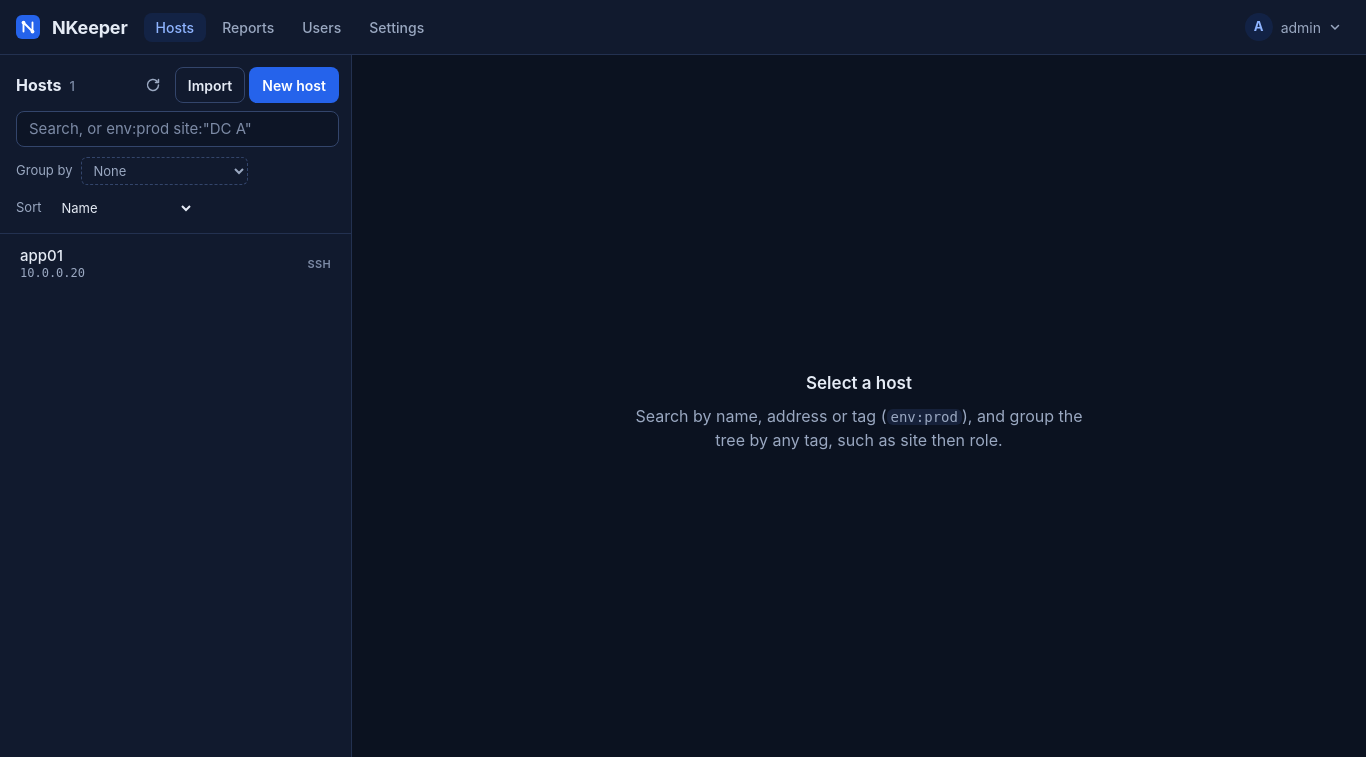
storage (iSCSI, multipath, DRBD) › logs out of a target only after confirming, and shows why the host refused
Right-click the button "app01 10.0.0.20 SSH": (41, 256) [8, 242, 343, 286]
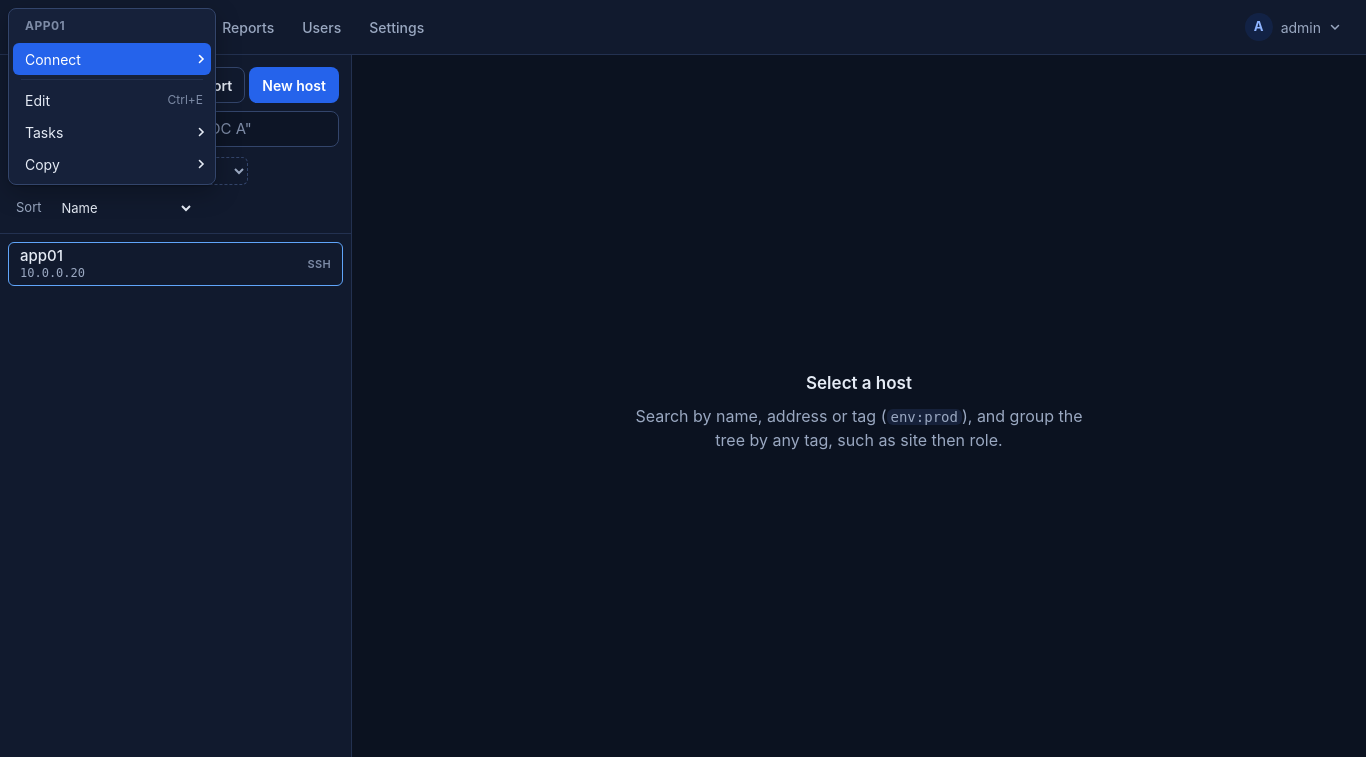
Hover over the menu item "Connect": (112, 59) [13, 43, 211, 75]
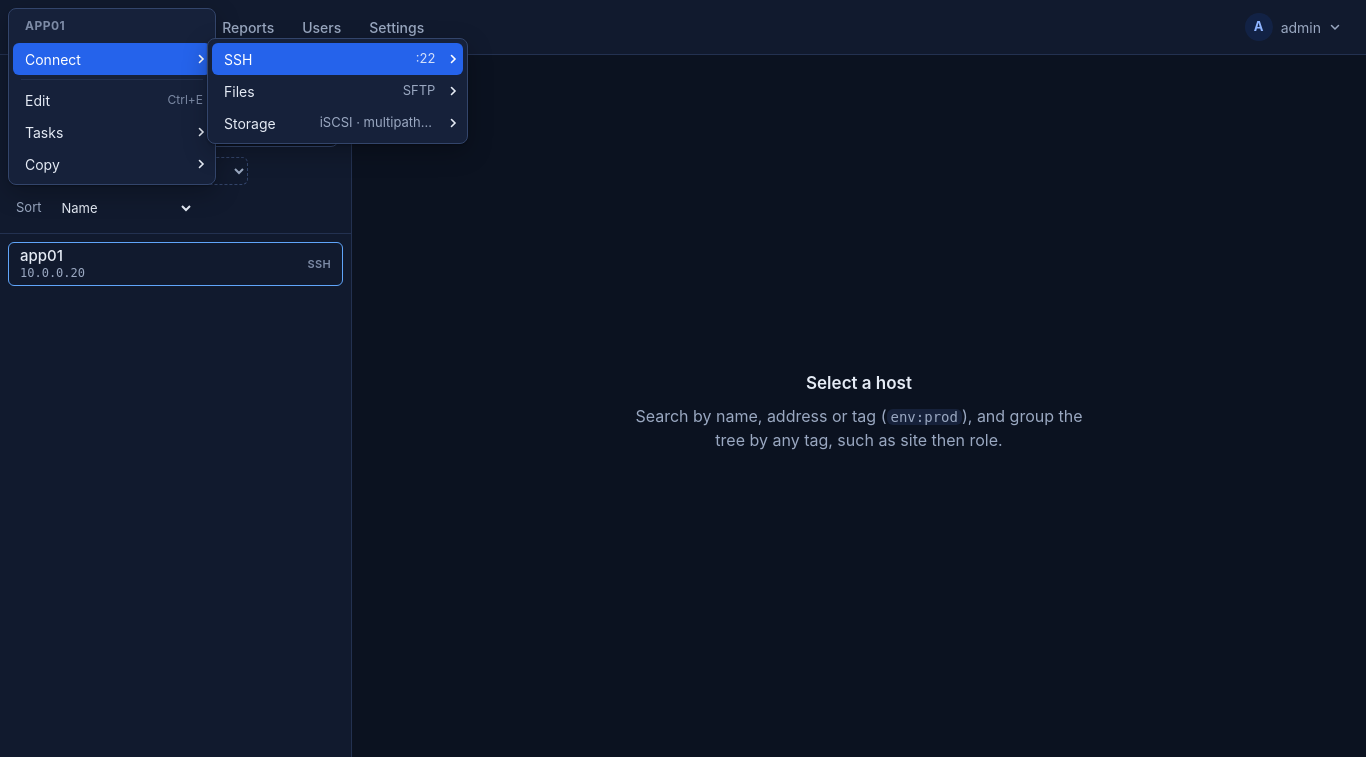
Hover over the menu item "Storage iSCSI · multipath · DRBD": (338, 123) [212, 107, 463, 139]
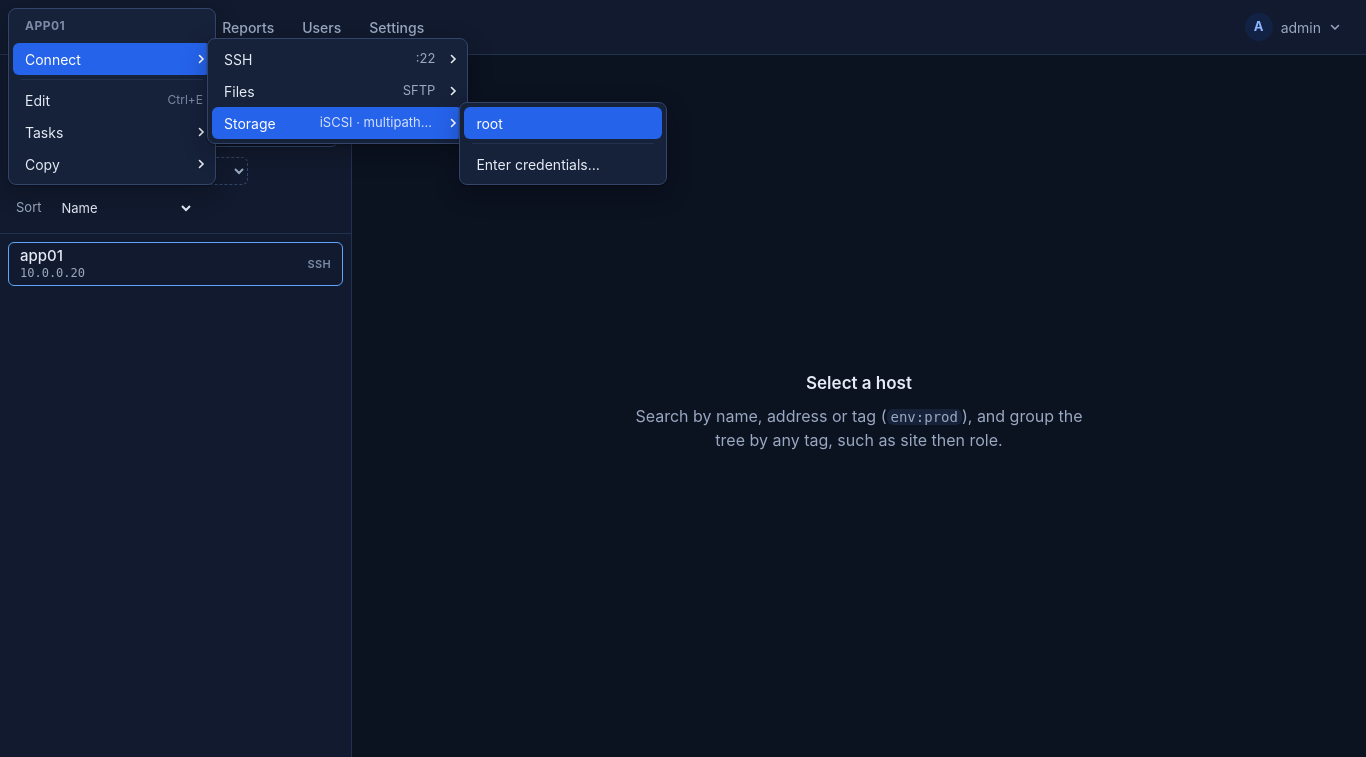
Click the menu item "root": (563, 123) [464, 107, 662, 139]
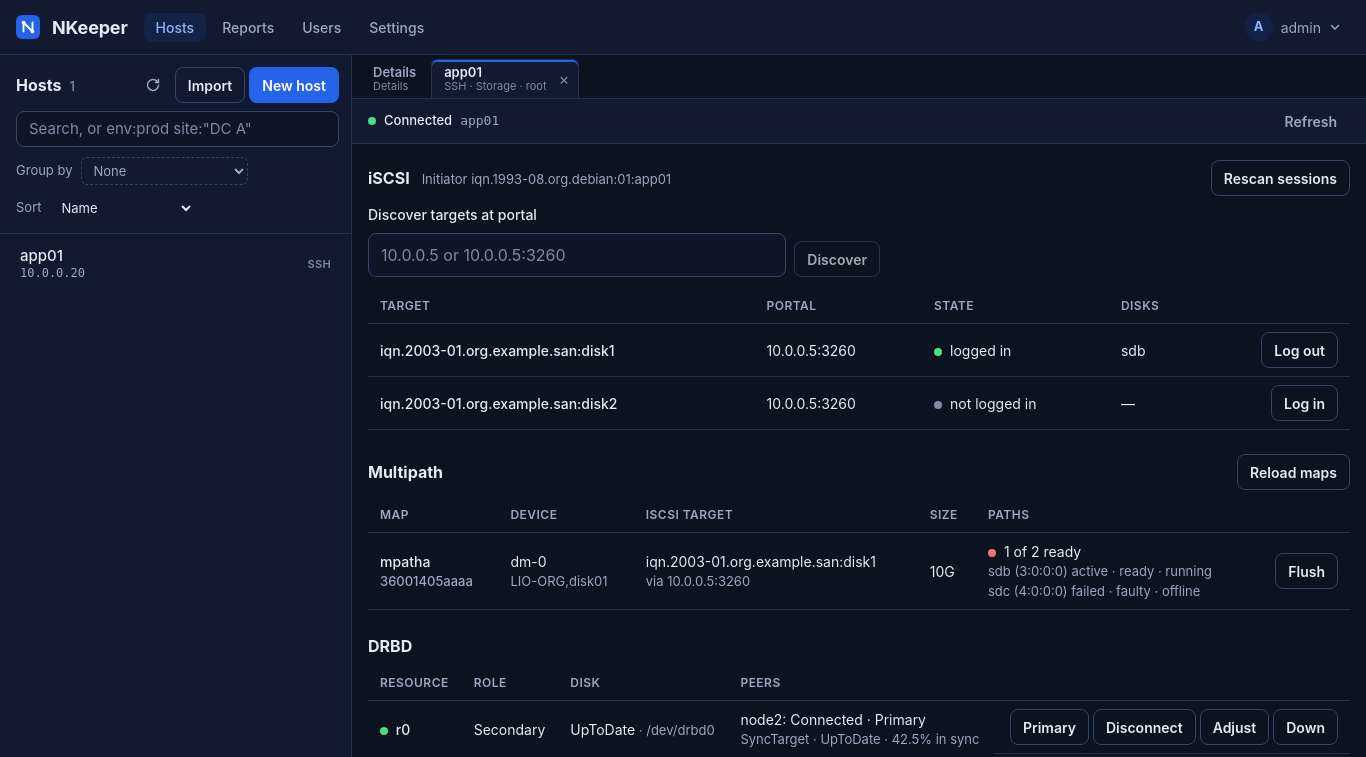
Click the button "Log out": (1300, 350) [1261, 332, 1338, 368]
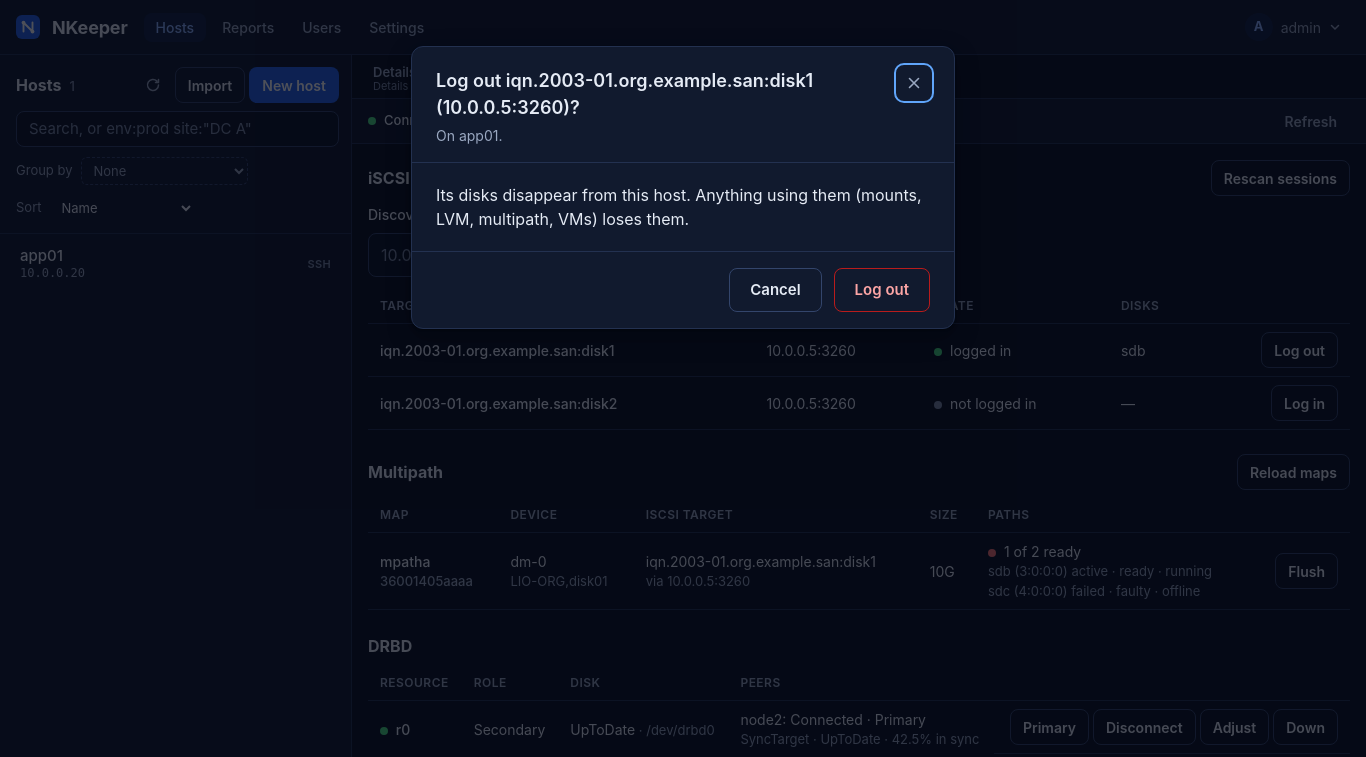
Result: the dialog shows "Its disks disappear from this host." at [436, 185, 922, 229]
Click the button "Log out": (882, 290) [834, 268, 930, 312]
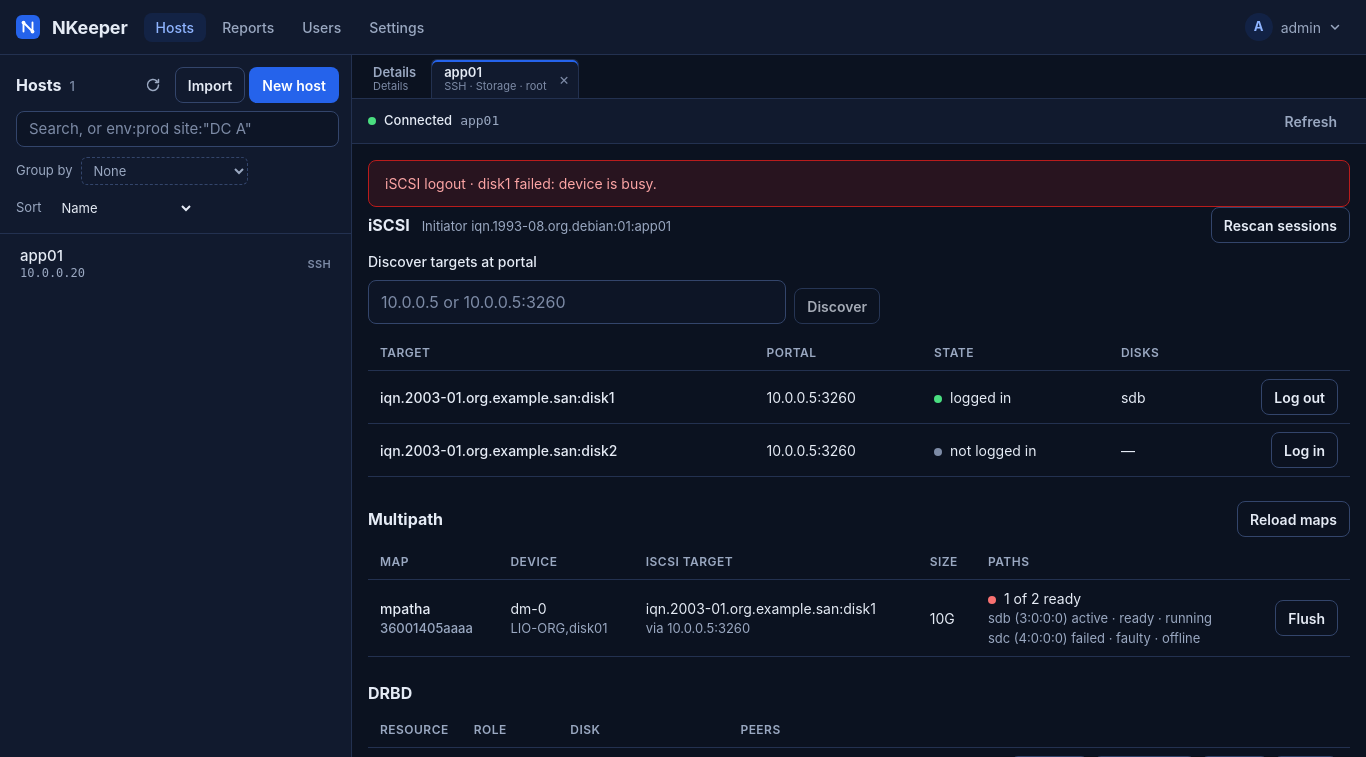
Result: the message "iSCSI logout · disk1 failed: device is busy." is shown at [368, 160, 1350, 207]
